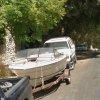Boat: (5, 31, 67, 85)
